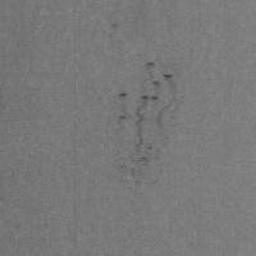Inclusion: (115, 60, 177, 191), (116, 91, 128, 99)
